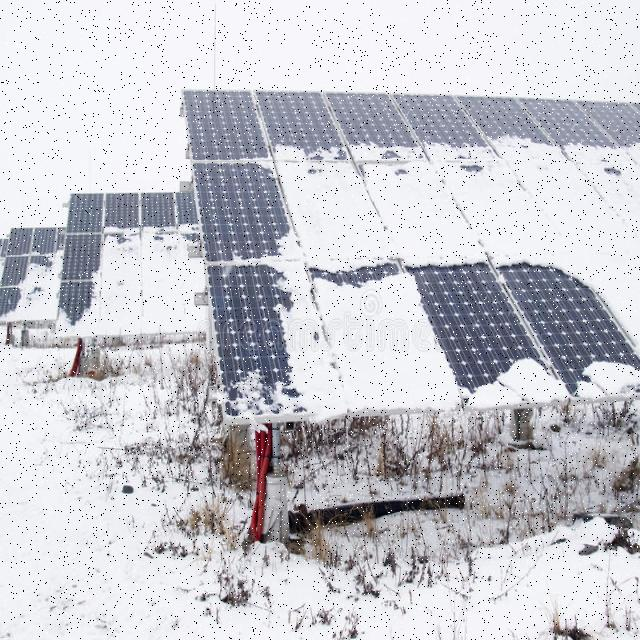snow covered: (198, 97, 633, 404)
